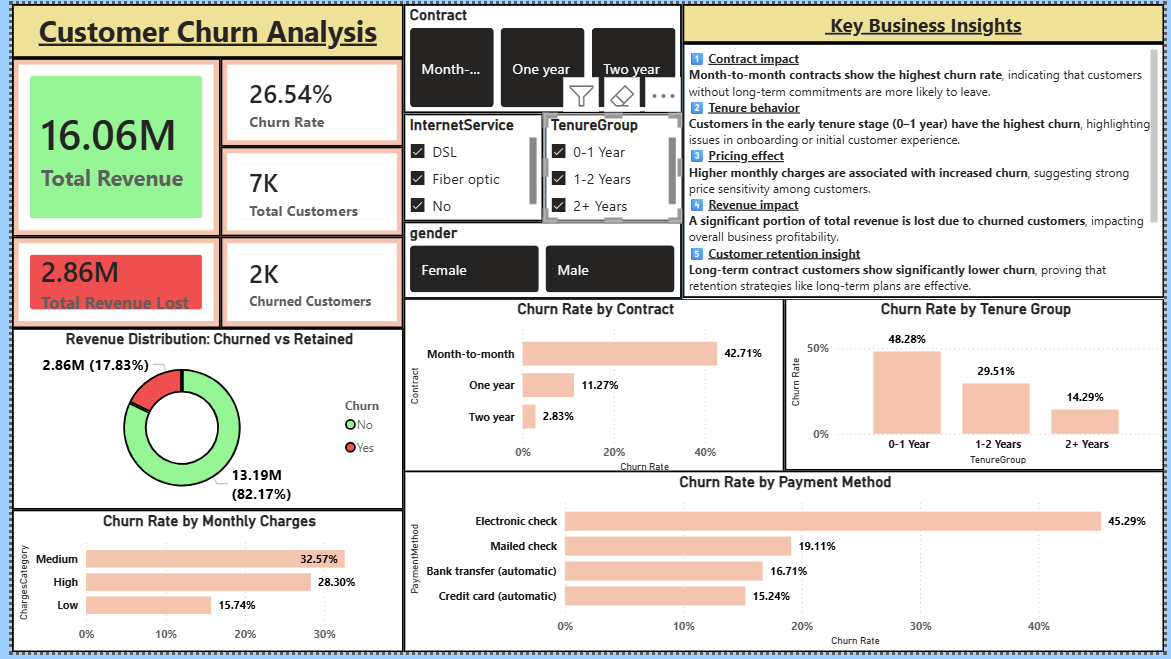

The dashboard page shown, as its layout file describes it:
{"tool":"powerbi","page":{"name":"Page 1","canvas":[1280,720],"ordinal":0},"visuals":[{"type":"cardVisual","fields":{"Data":["churn_analysis churn_data.Total Revenue"]},"box":[0,60,231.7,198.3],"z":0},{"type":"cardVisual","fields":{"Data":["churn_analysis churn_data.Total Revenue Lost"]},"box":[0,258.3,231.7,101.7],"z":1000},{"type":"cardVisual","fields":{"Data":["churn_analysis churn_data.Total Customers"]},"box":[231.7,158.3,203.3,100],"z":2000},{"type":"cardVisual","fields":{"Data":["churn_analysis churn_data.Churn Rate"]},"box":[231.7,60,203.3,98.3],"z":3000},{"type":"cardVisual","fields":{"Data":["churn_analysis churn_data.Churned Customers"]},"box":[231.7,258.3,203.3,101.7],"z":4000},{"type":"textbox","box":[0,0,435,60],"z":5000},{"type":"clusteredBarChart","fields":{"Category":["churn_analysis churn_data.Contract"],"Y":["churn_analysis churn_data.Churn Rate"]},"box":[435,326.7,423.3,200],"z":6000},{"type":"columnChart","title":"Churn Rate by Tenure Group","fields":{"Y":["churn_analysis churn_data.Churn Rate"],"Category":["churn_analysis churn_data.TenureGroup"]},"box":[858.3,326.7,421.7,191.7],"z":7000},{"type":"barChart","title":"Churn Rate by Monthly Charges","fields":{"Category":["churn_analysis churn_data.ChargesCategory"],"Y":["churn_analysis churn_data.Churn Rate"]},"box":[0,561.7,435,158.3],"z":8000},{"type":"donutChart","title":"Revenue Distribution: Churned vs Retained","fields":{"Category":["churn_analysis churn_data.Churn"],"Y":["Sum(churn_analysis churn_data.Revenue)"]},"box":[0,360,435,201.7],"z":9000},{"type":"barChart","title":"Churn Rate by Payment Method","fields":{"Category":["churn_analysis churn_data.PaymentMethod"],"Y":["churn_analysis churn_data.Churn Rate"]},"box":[435,518.3,845,201.7],"z":10000},{"type":"advancedSlicerVisual","fields":{"Values":["churn_analysis churn_data.Contract"]},"box":[435.6,0,309.3,121.4],"z":11000},{"type":"listSlicer","fields":{"Values":["churn_analysis churn_data.InternetService"]},"box":[435.6,121.4,155.4,119.8],"z":12000},{"type":"advancedSlicerVisual","fields":{"Values":["churn_analysis churn_data.gender"]},"box":[435.6,241.3,309.3,85.8],"z":13000},{"type":"listSlicer","fields":{"Values":["churn_analysis churn_data.TenureGroup"]},"box":[591,121.4,153.8,119.8],"z":14000},{"type":"textbox","box":[745,43.3,535,283.3],"z":14001},{"type":"textbox","box":[745,0,535,43.3],"z":14002}]}

Visuals, with their boxes in screenshot pixels (x1, y1, x2, y2), scaled from the page's 1280x720 canvas onto the 1171x659 screenshot:
cardVisual - churn_analysis churn_data.Total Revenue: <box>0,55,212,236</box>
cardVisual - churn_analysis churn_data.Total Revenue Lost: <box>0,236,212,330</box>
cardVisual - churn_analysis churn_data.Total Customers: <box>212,145,398,236</box>
cardVisual - churn_analysis churn_data.Churn Rate: <box>212,55,398,145</box>
cardVisual - churn_analysis churn_data.Churned Customers: <box>212,236,398,330</box>
textbox: <box>0,0,398,55</box>
clusteredBarChart - churn_analysis churn_data.Contract x churn_analysis churn_data.Churn Rate: <box>398,299,785,482</box>
"Churn Rate by Tenure Group" columnChart: <box>785,299,1170,474</box>
"Churn Rate by Monthly Charges" barChart: <box>0,514,398,658</box>
"Revenue Distribution: Churned vs Retained" donutChart: <box>0,330,398,514</box>
"Churn Rate by Payment Method" barChart: <box>398,474,1170,658</box>
advancedSlicerVisual - churn_analysis churn_data.Contract: <box>399,0,681,111</box>
listSlicer - churn_analysis churn_data.InternetService: <box>399,111,541,221</box>
advancedSlicerVisual - churn_analysis churn_data.gender: <box>399,221,681,299</box>
listSlicer - churn_analysis churn_data.TenureGroup: <box>541,111,681,221</box>
textbox: <box>682,40,1170,299</box>
textbox: <box>682,0,1170,40</box>
